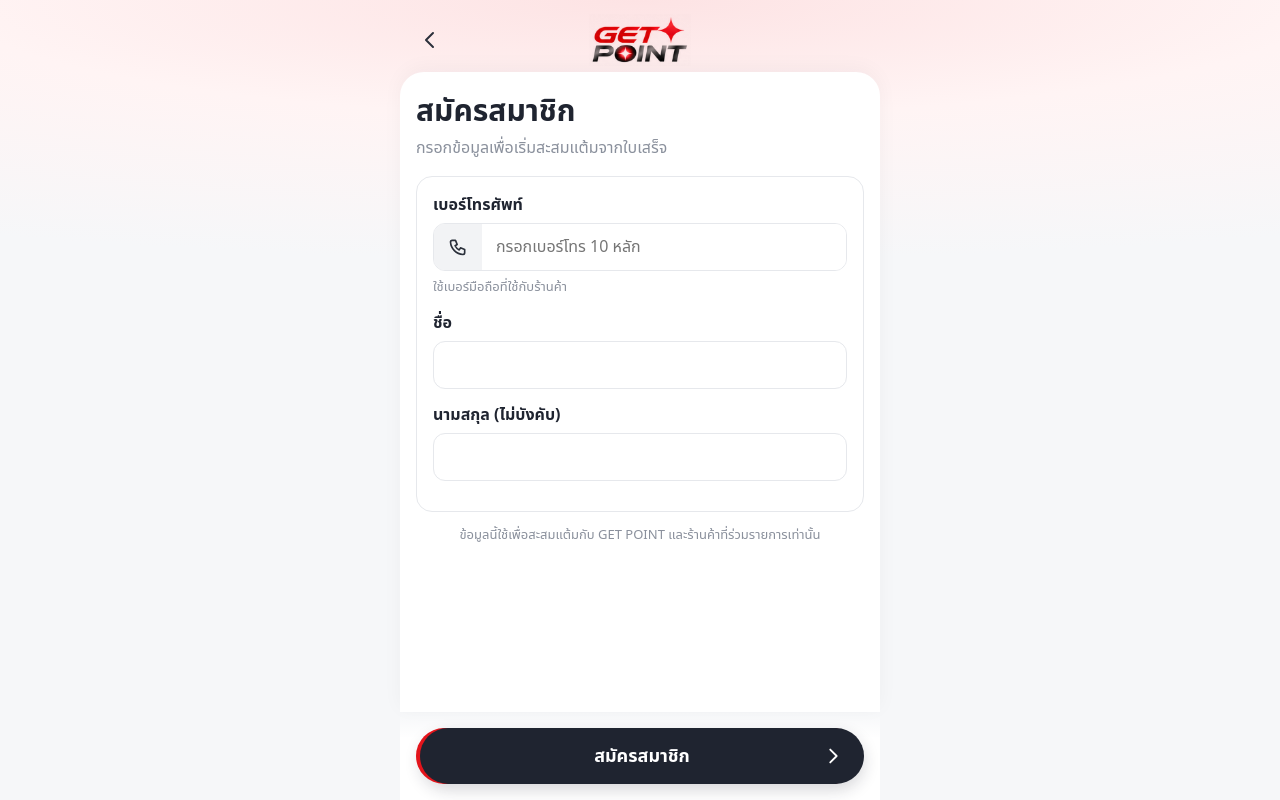
Test: sign-up › checks the fields, then registers and offers scanning
Click the button "สมัครสมาชิก" at (642, 756), box x1=420 y1=728 x2=864 y2=784
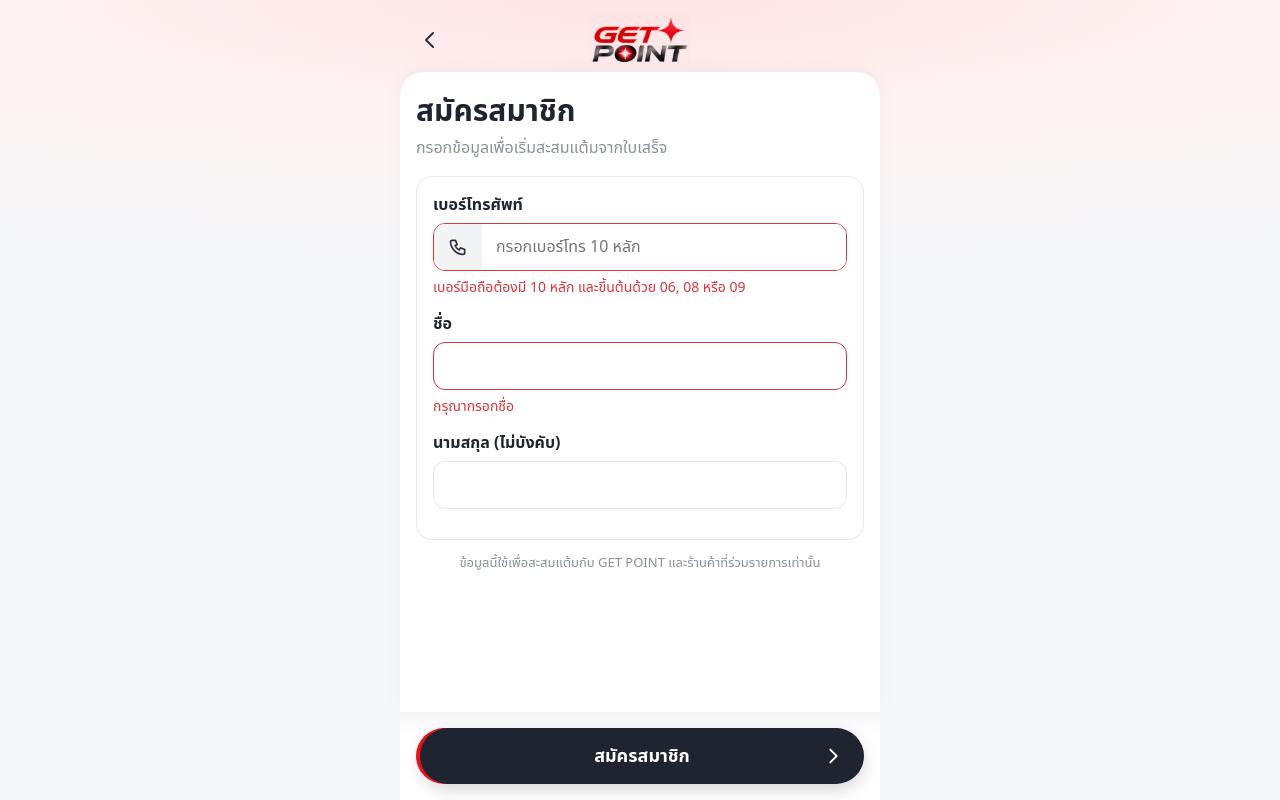
Expected: the text "กรุณากรอกชื่อ" is shown, x1=433 y1=396 x2=514 y2=416
Type "081-555-1234" into the field with placeholder "กรอกเบอร์โทร 10 หลัก" at (664, 246), box x1=482 y1=224 x2=846 y2=270
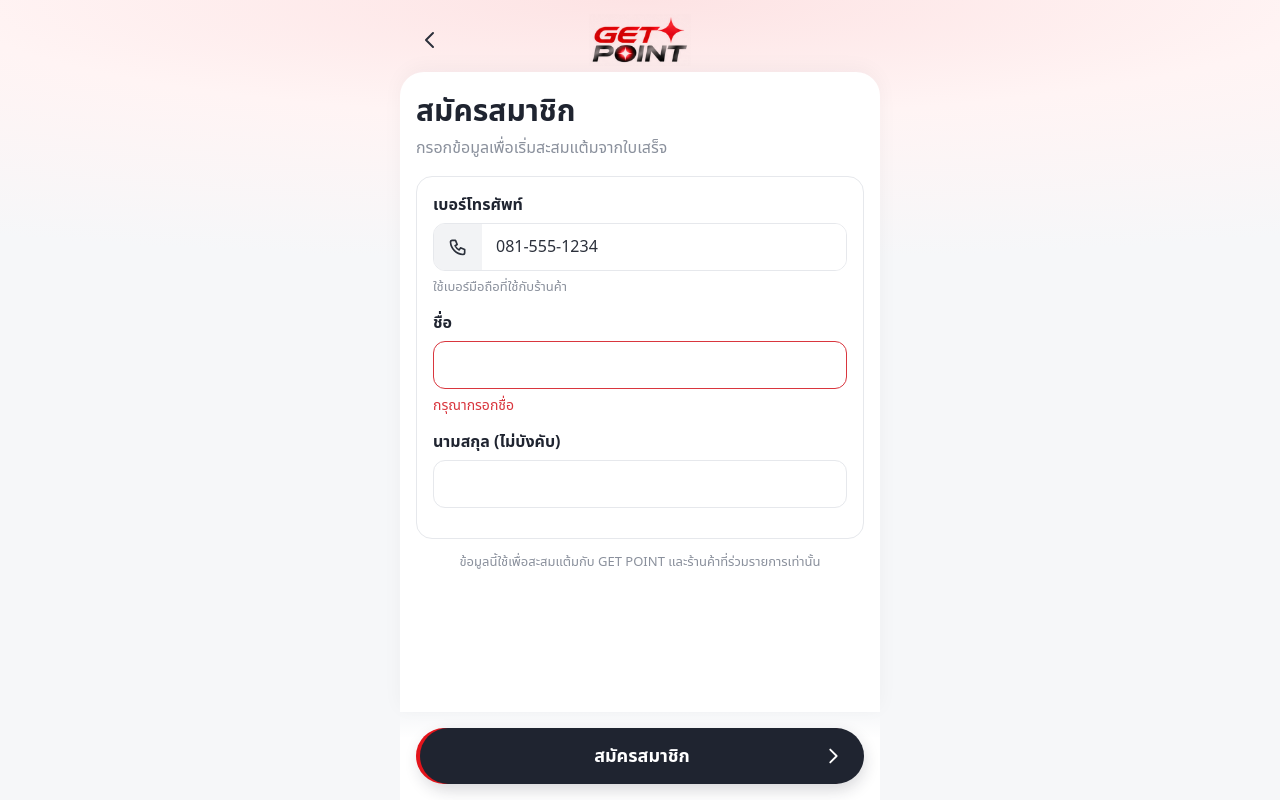
Type "เอ" into the field labelled "ชื่อ" at (640, 364), box x1=433 y1=340 x2=847 y2=388
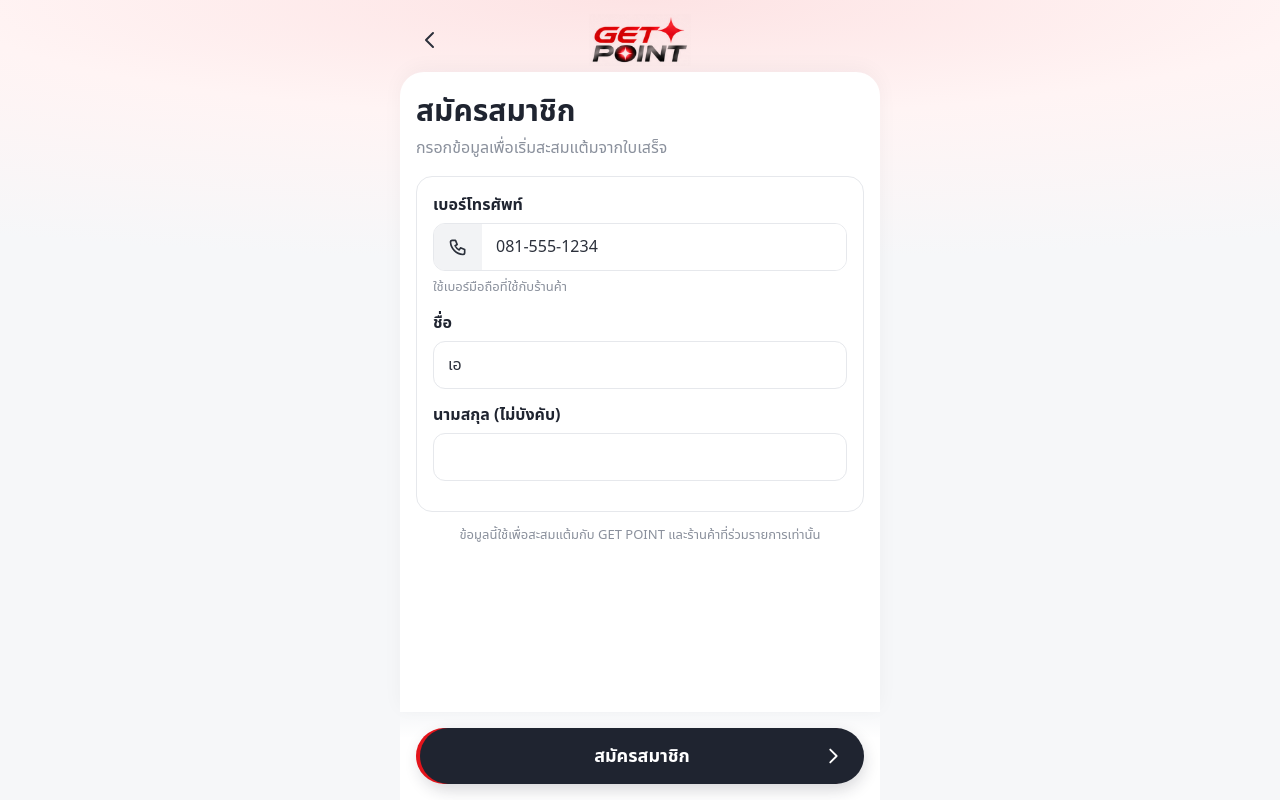
Click the button "สมัครสมาชิก" at (642, 756), box x1=420 y1=728 x2=864 y2=784
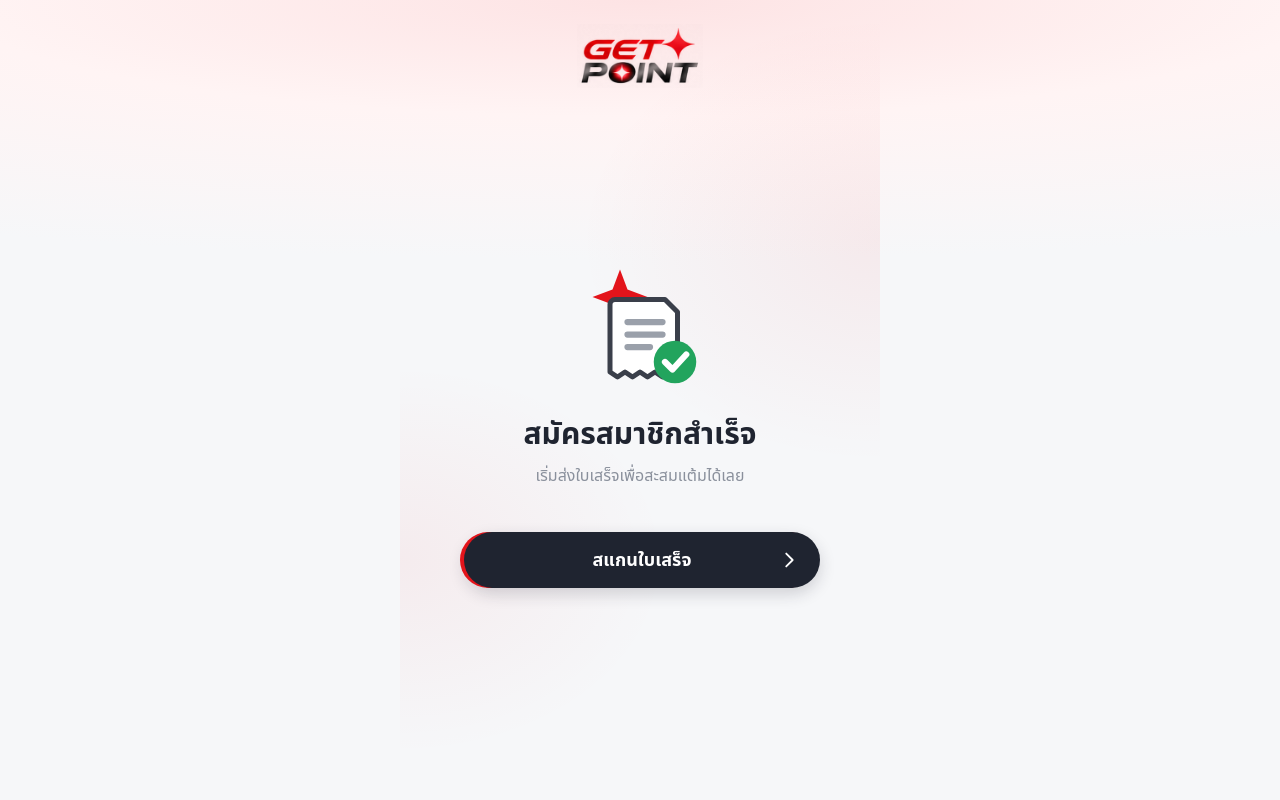
Expected: the heading "สมัครสมาชิกสำเร็จ" is shown, x1=524 y1=417 x2=757 y2=454
